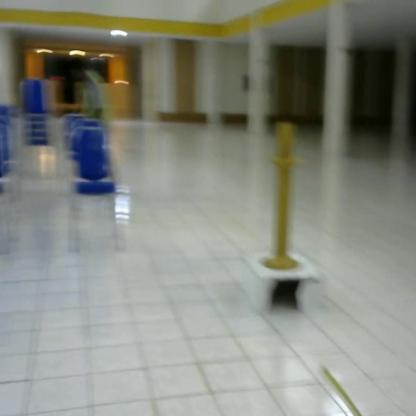pole: (261, 118, 305, 273)
